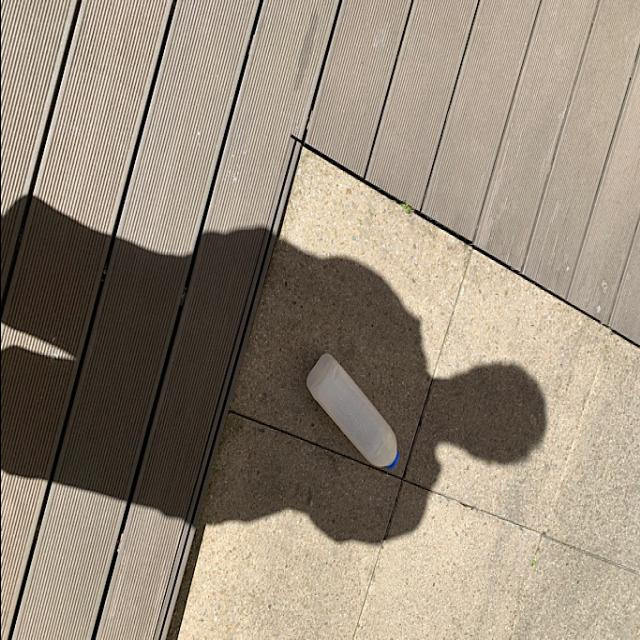litter: (302, 352, 408, 480)
